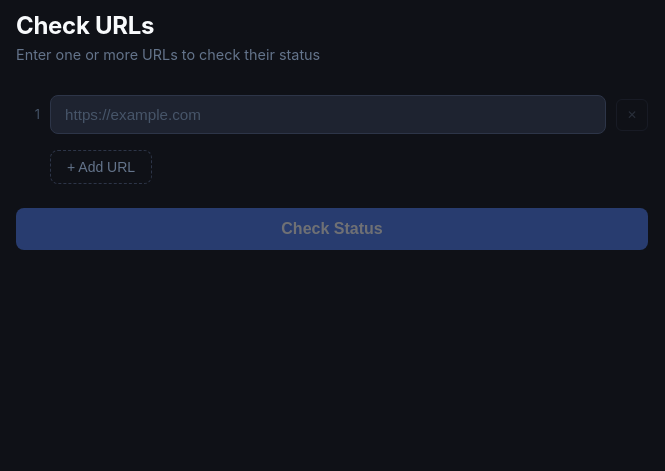
Test: Home Page › submitting urls shows results with up and down status
Click the button "+ Add URL": [101, 167] box [50,150,152,184]
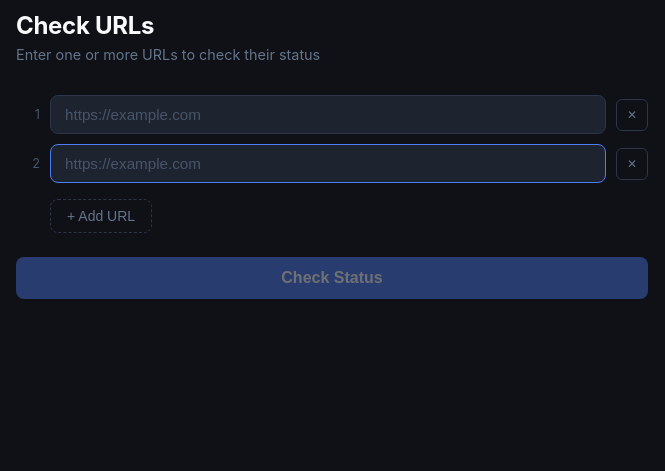
In the 1st field with placeholder "https://example.com": [328, 114] box [50,95,606,134], type "google.com"
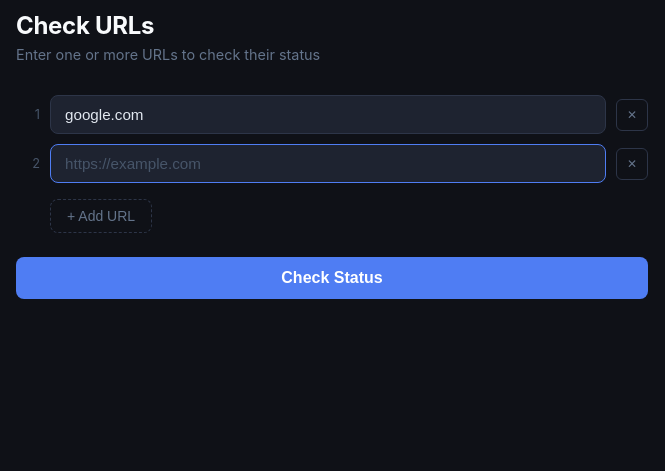
In the field with placeholder "https://example.com": [328, 164] box [50,144,606,183], type "badurl.xyz"
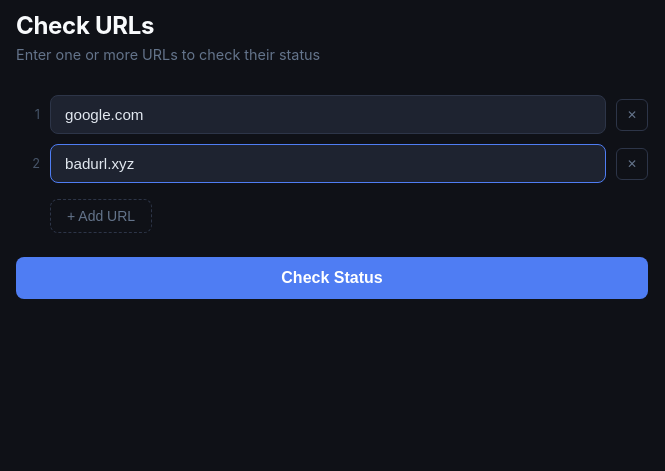
Click the button "Check Status": [332, 278] box [16,257,648,299]
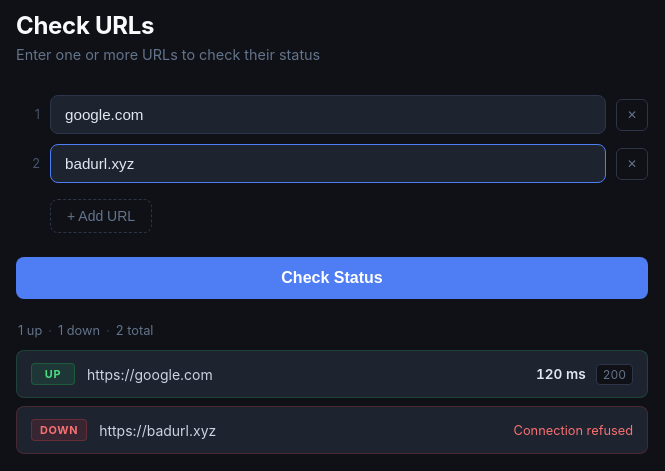
expect the text "1 up" is shown: met, box [18,323,42,338]
expect the text "1 down" is shown: met, box [58,323,100,338]
expect the text "2 total" is shown: met, box [116,323,154,338]
